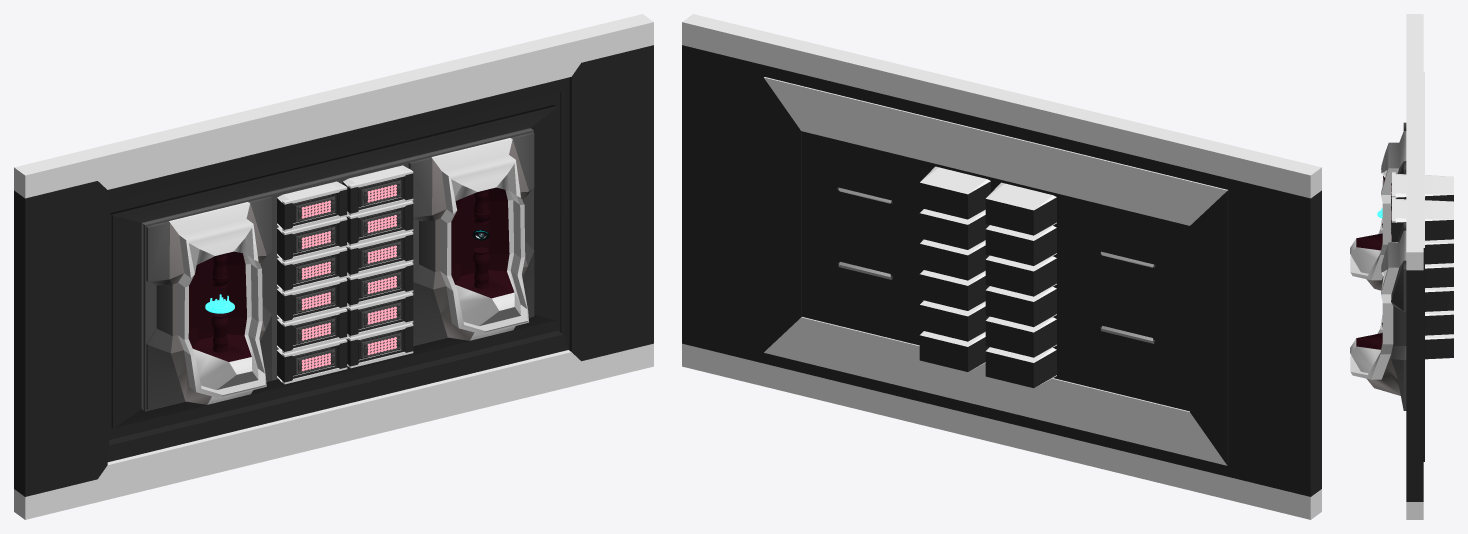
Rendered from HackerWallArti.fbx.
The picture shows the model from 3 angles, left to right: view 1: azimuth 30°, elevation 25°; view 2: azimuth 150°, elevation 25°; view 3: azimuth 270°, elevation 25°; orthographic projection. The views are drawn at different scales.
Visible parts, largest first — view 1: Cube.005, Cube.006, Cube.007, Cylinder.003; view 2: Cube.005, Cube.007, Cube.006; view 3: Cube.005, Cube.006, Cube.007.
Part boxes in pixels (bbox=[...]): Cube.005: bbox=[14, 14, 653, 519]; Cube.006: bbox=[146, 132, 534, 410]; Cube.007: bbox=[277, 165, 413, 384]; Cylinder.003: bbox=[211, 189, 490, 352]; Cube.005: bbox=[682, 14, 1321, 519]; Cube.007: bbox=[919, 166, 1056, 388]; Cube.006: bbox=[837, 187, 1155, 343]; Cube.005: bbox=[1406, 14, 1424, 519]; Cube.006: bbox=[1350, 122, 1406, 410]; Cube.007: bbox=[1391, 172, 1453, 359].
Size of the model in its own units: 8008 by 4192 by 1474.
